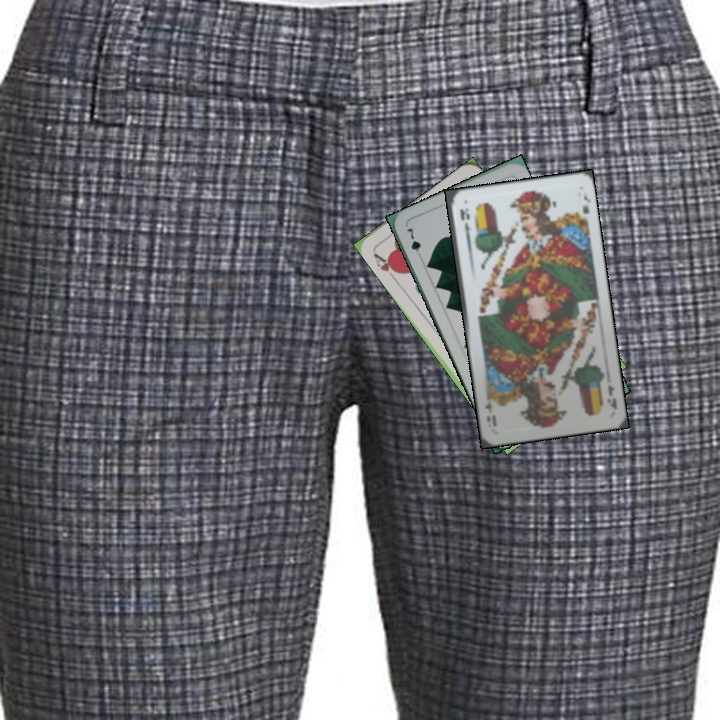EK: (456, 204, 473, 243), (603, 380, 619, 412)
G7: (402, 224, 425, 262)
HA: (369, 249, 402, 283)
